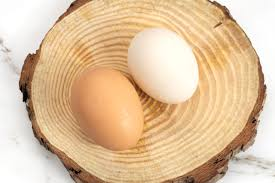eggs: (125, 25, 213, 119), (62, 56, 146, 153)
